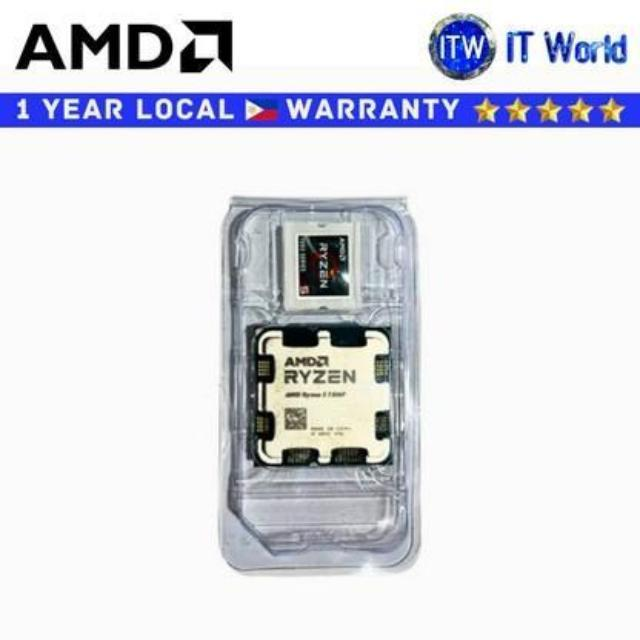CPU: (256, 336, 390, 464)
